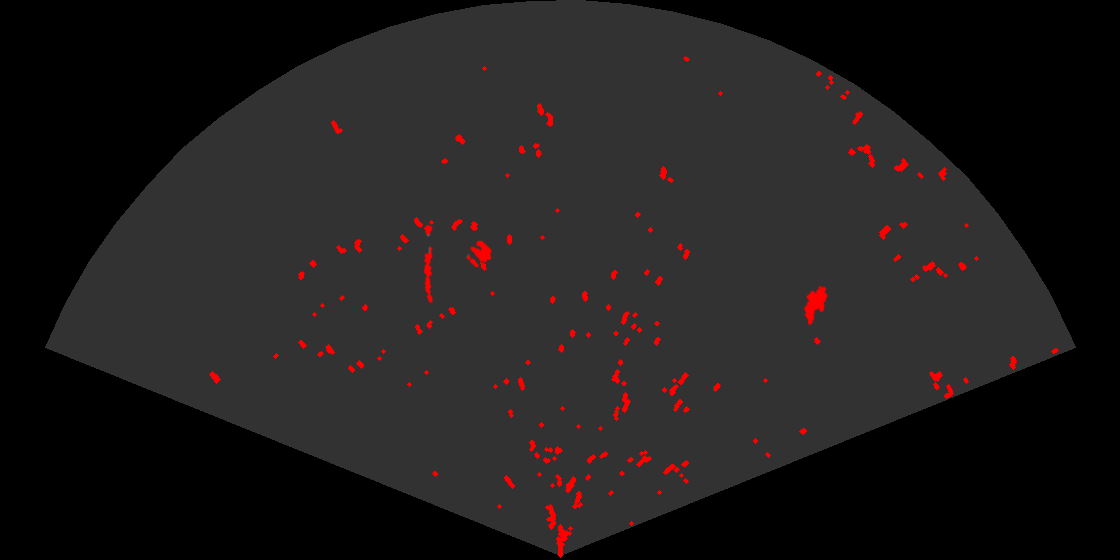AUV: (802, 284, 830, 327)
ball: (465, 239, 493, 269)
chain: (422, 224, 434, 304)
